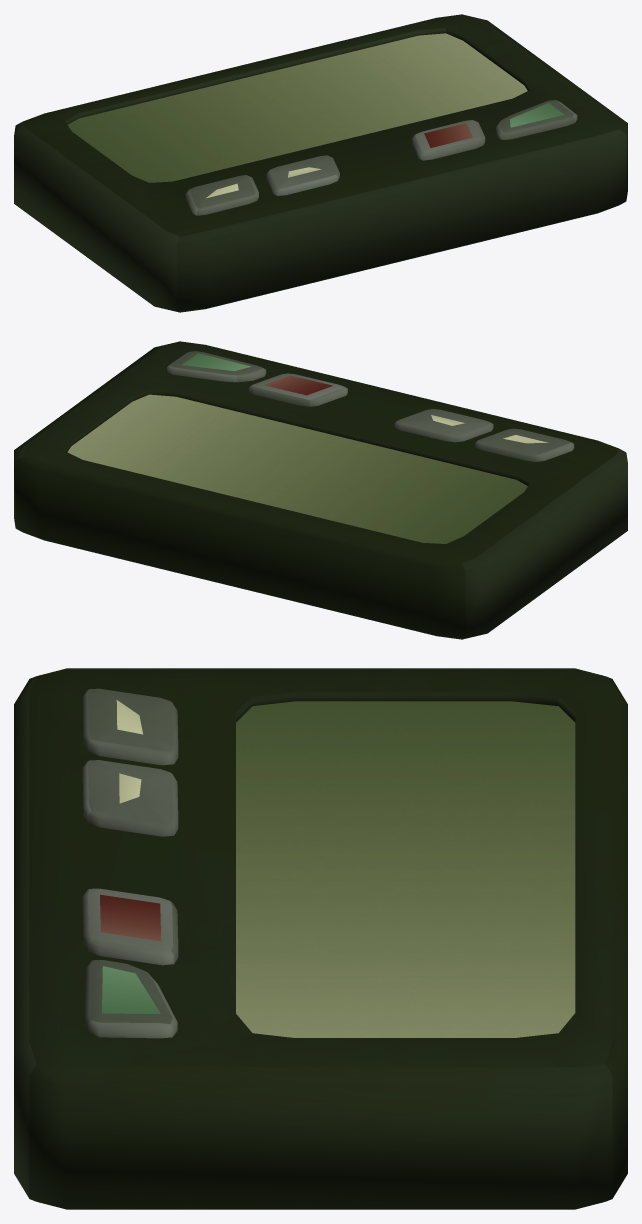
File: pager.fbx
3 renders of one model, top to bottom at view 1: azimuth 30°, elevation 25°; view 2: azimuth 150°, elevation 25°; view 3: azimuth 270°, elevation 25°, orthographic. The views are drawn at different scales.
Parts seen in each view (by area): view 1: pager; view 2: pager; view 3: pager.
Part boxes in pixels (box(x1,y1,x2,y2)): pager: box(14, 14, 627, 312); pager: box(14, 341, 627, 639); pager: box(14, 668, 627, 1209).
Size of the model in its own units: 179 by 32.25 by 111.
